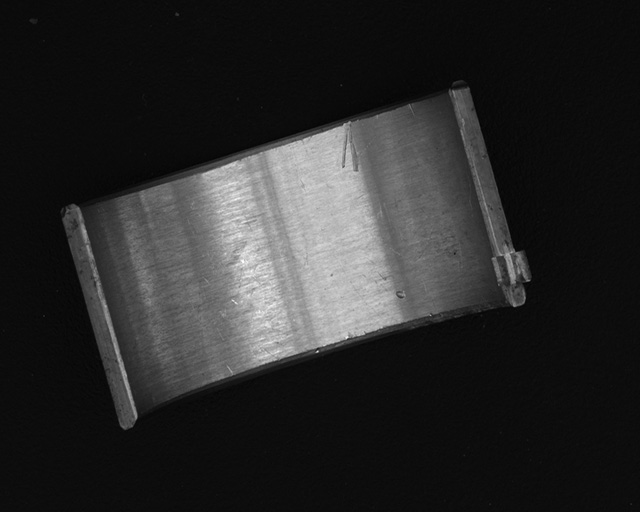bruise: (395, 289, 407, 301)
nick: (338, 121, 361, 172), (407, 102, 417, 117)
